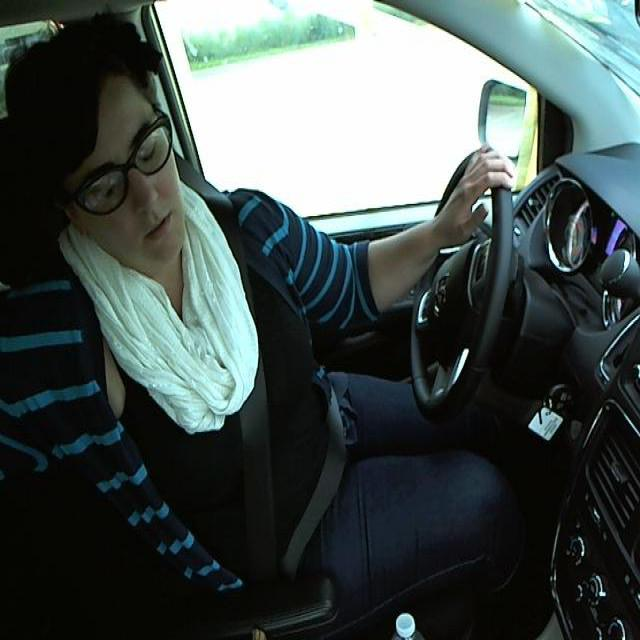seatbelt: (207, 231, 343, 578)
